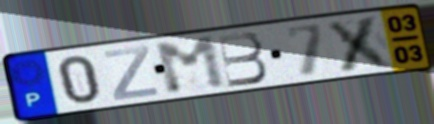0: (55, 54, 104, 106)
7: (284, 21, 327, 79)
B: (214, 30, 271, 89)
M: (151, 34, 231, 97)
X: (323, 13, 398, 74)
Z: (101, 43, 160, 102)
